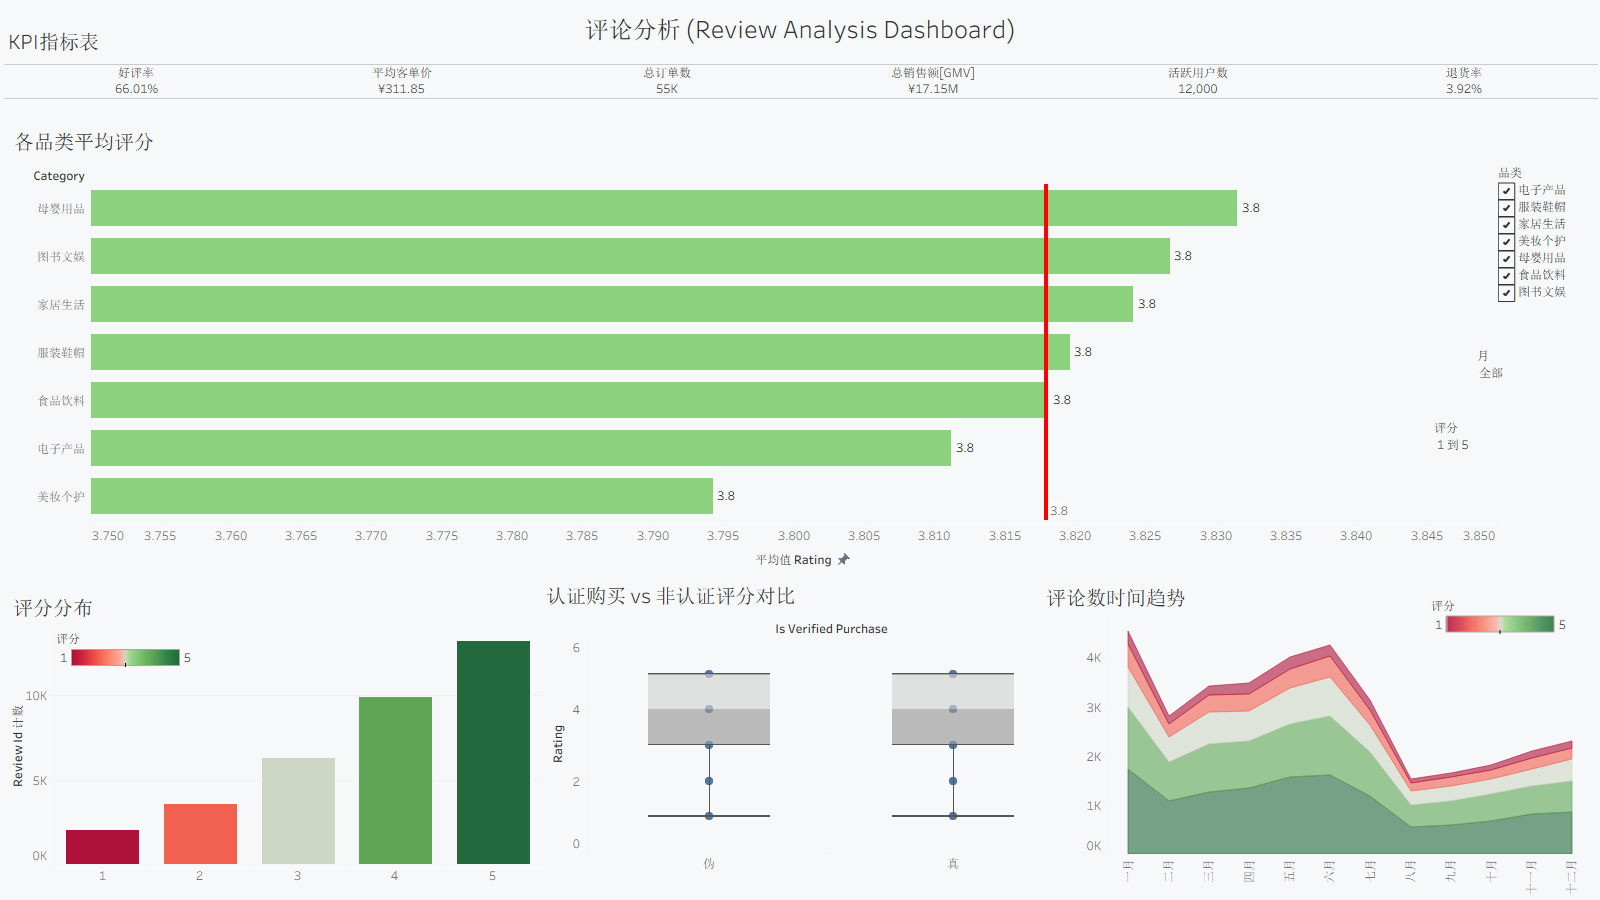

Layout of this report page (visuals, bound fields, positions):
{"tool":"tableau","page":{"name":"评论分析 (Review Analysis Dashboard)","canvas":[1600,900],"ordinal":2},"visuals":[{"type":"title","box":[8,8,1584,42]},{"type":"worksheet","title":"KPI指标表","mark":"Automatic","box":[4,21,1594,105]},{"type":"worksheet","title":"各品类平均评分","mark":"Automatic","rows":["category"],"cols":["rating"],"box":[10,121,1487,454]},{"type":"filter","title":"各品类平均评分","param":"[federated.0lb1a9i1hp98jd18h5jou19731hb].[none:category:nk]","box":[1498,163,103,178]},{"type":"filter","title":"评论数时间趋势","param":"[federated.0lb1a9i1hp98jd18h5jou19731hb].[mn:review_date:ok]","box":[1477,346,122,84]},{"type":"filter","title":"评分分布","param":"[federated.0lb1a9i1hp98jd18h5jou19731hb].[none:rating:qk]","box":[1434,418,168,69]},{"type":"worksheet","title":"认证购买 vs 非认证评分对比","mark":"Circle","rows":["rating"],"cols":["is_verified_purchase"],"box":[542,575,533,298]},{"type":"worksheet","title":"评分分布","mark":"Bar","rows":["review_id"],"cols":["rating"],"box":[9,587,533,298]},{"type":"legend","title":"评论数时间趋势","param":"[federated.0lb1a9i1hp98jd18h5jou19731hb].[none:rating:qk]","box":[1431,593,140,76]},{"type":"legend","title":"评分分布","param":"[federated.0lb1a9i1hp98jd18h5jou19731hb].[sum:rating:qk]","box":[56,626,140,76]}]}

Visuals, with their boxes in screenshot pixels (x1, y1, x2, y2), scaled from the page's 1600x900 canvas onto the 1600x900 screenshot:
title: crop(8, 8, 1592, 50)
"KPI指标表" worksheet: crop(4, 21, 1598, 126)
"各品类平均评分" worksheet: crop(10, 121, 1497, 575)
"各品类平均评分" filter: crop(1498, 163, 1599, 341)
"评论数时间趋势" filter: crop(1477, 346, 1599, 430)
"评分分布" filter: crop(1434, 418, 1599, 487)
"认证购买 vs 非认证评分对比" worksheet (Circle marks): crop(542, 575, 1075, 873)
"评分分布" worksheet (Bar marks): crop(9, 587, 542, 885)
"评论数时间趋势" legend: crop(1431, 593, 1571, 669)
"评分分布" legend: crop(56, 626, 196, 702)
